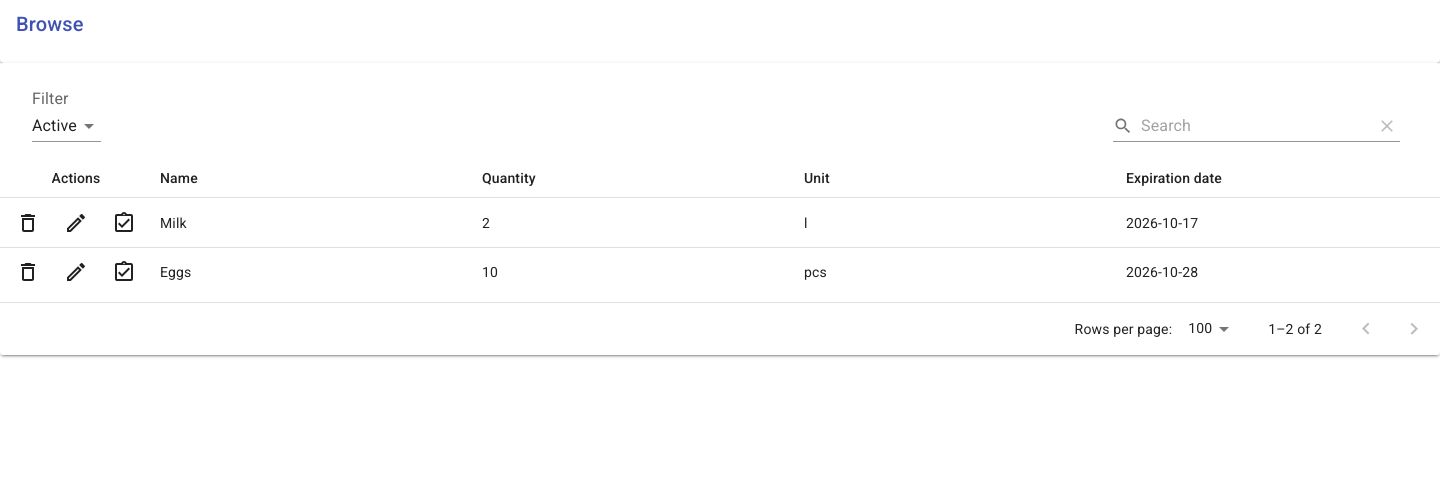
pages hold 100 rows with 25/50/100 options
Press the mouse on the dropdown labelled "100": (1200, 328) [1188,320,1212,336]
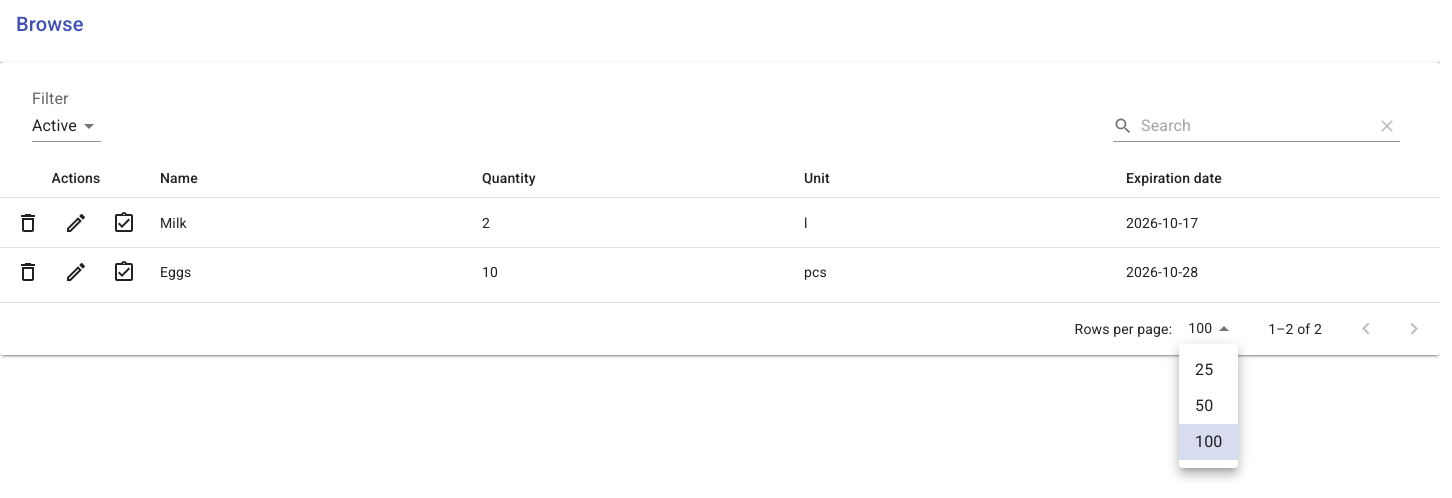
Now the options read "25", "50", "100", in this order, box [1195,360,1213,379]; [1195,396,1213,415]; [1179,424,1238,460]
